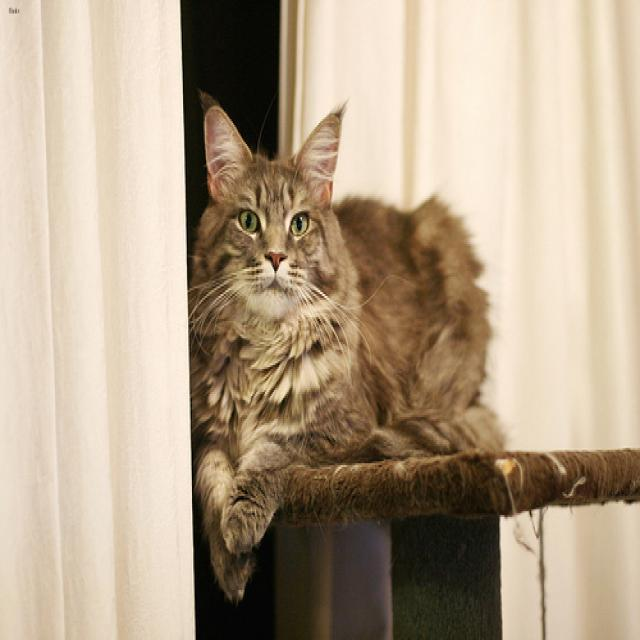Maine_Coon: (202, 102, 339, 313)
